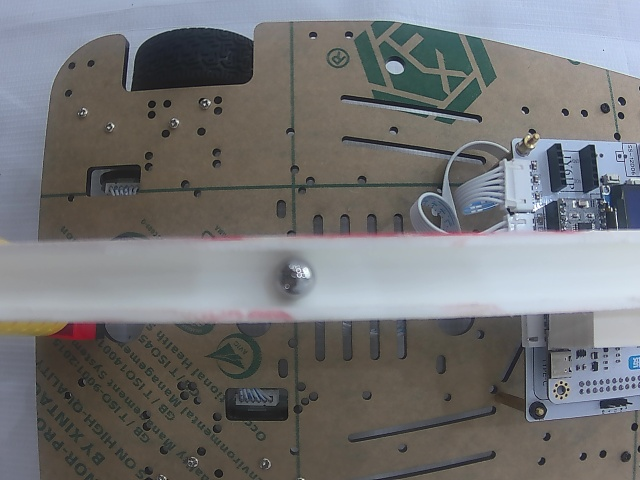steelball: (270, 256, 317, 300)
